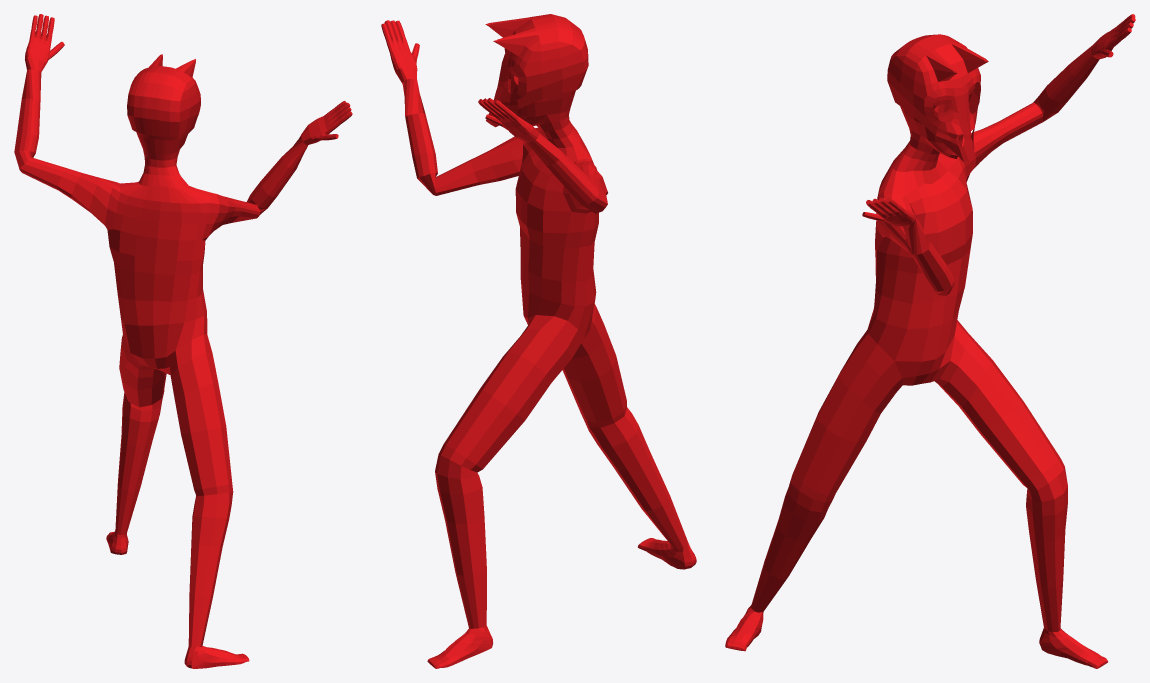
File: activaAlarma_000231.obj
3 renders of one model, left to right at view 1: azimuth 30°, elevation 25°; view 2: azimuth 150°, elevation 25°; view 3: azimuth 270°, elevation 25°, orthographic. The views are drawn at different scales.
Visible parts, largest first — view 1: Plane.002_Plane.001; view 2: Plane.002_Plane.001; view 3: Plane.002_Plane.001.
Part boxes in pixels (x1=…): Plane.002_Plane.001: x1=14, y1=14, x2=352, y2=668; Plane.002_Plane.001: x1=381, y1=14, x2=696, y2=668; Plane.002_Plane.001: x1=725, y1=14, x2=1135, y2=668.
Size of the model in its own units: 3.51 by 6.77 by 4.08.
